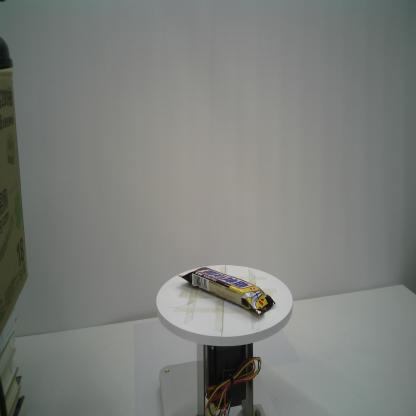Chocolate: (178, 267, 276, 316)
